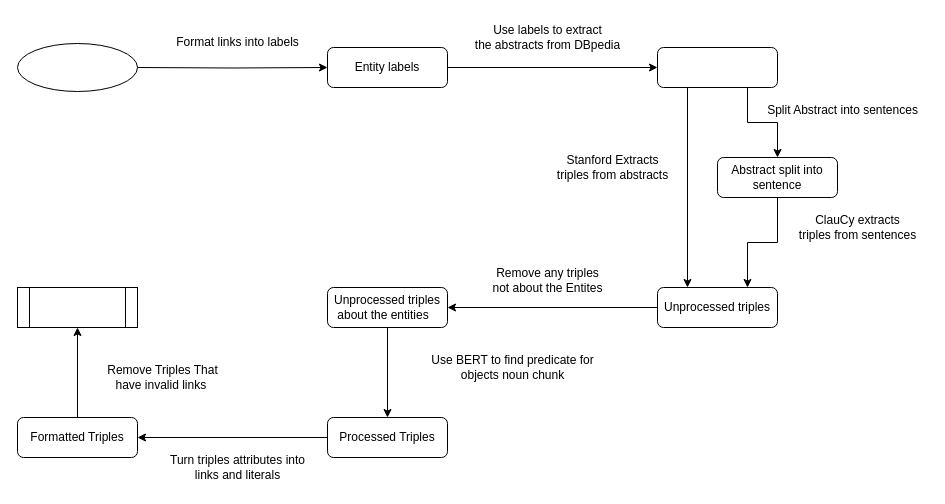
Some shapes in this 945 by 504 pixel diagram are drawn without their labels. The centre of each missing label's shape, as x and y in pixels:
"Abstracts" goes at point (717, 67).
"Entity URI Links" goes at point (77, 67).
"Final Triples" goes at point (77, 307).
